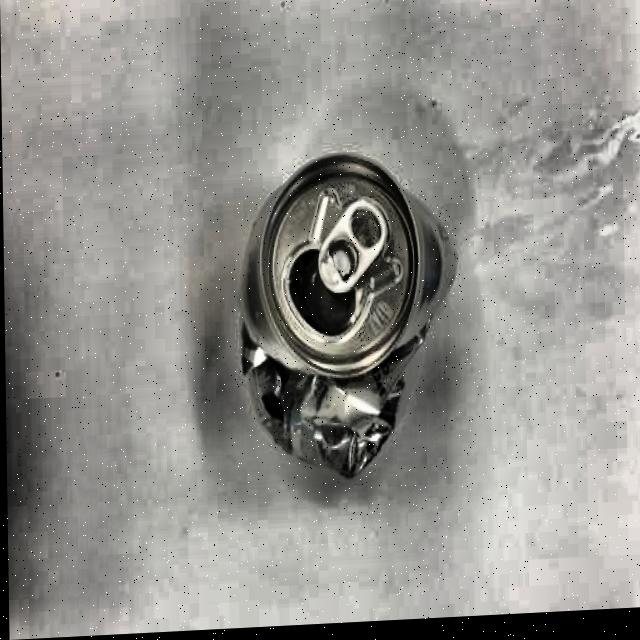metal: (237, 145, 461, 494)
